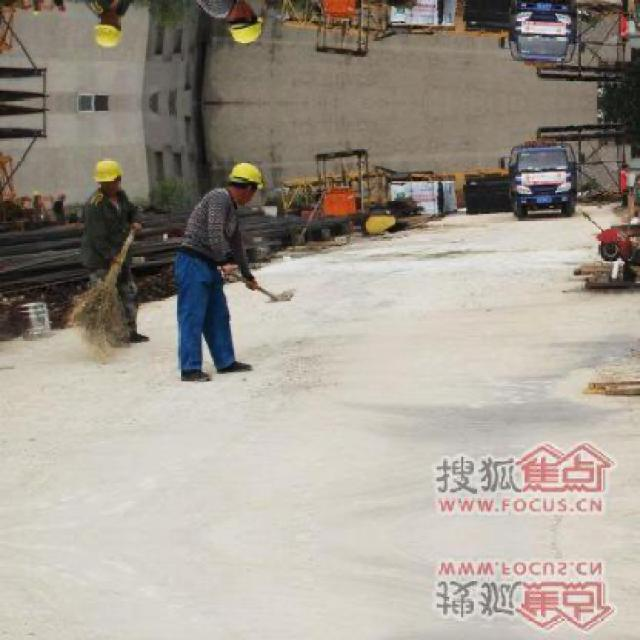helmet: (226, 159, 265, 203), (226, 2, 265, 46), (92, 155, 125, 194), (92, 11, 125, 49)
